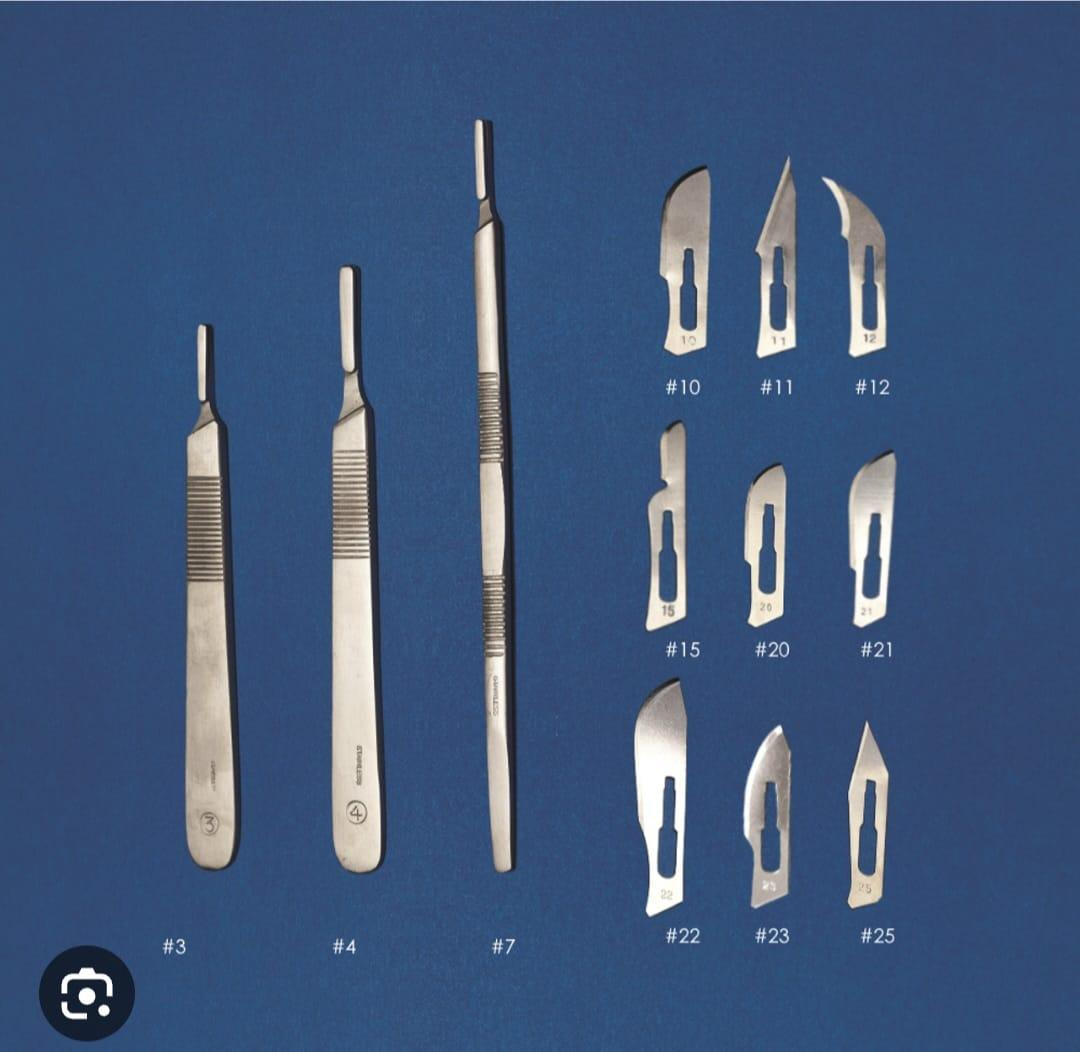Knife Blade: (615, 672, 715, 930), (828, 448, 928, 645), (635, 145, 722, 367), (832, 168, 928, 357), (727, 727, 815, 910), (742, 153, 817, 365), (835, 713, 905, 918), (733, 450, 810, 632)
Knife Handle: (310, 252, 417, 890), (160, 272, 267, 892)
